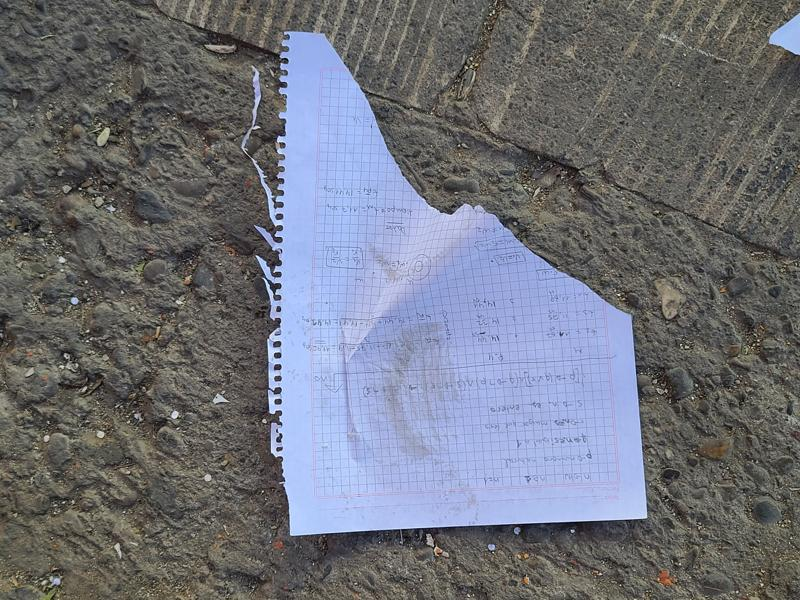papel: (270, 32, 649, 540)
